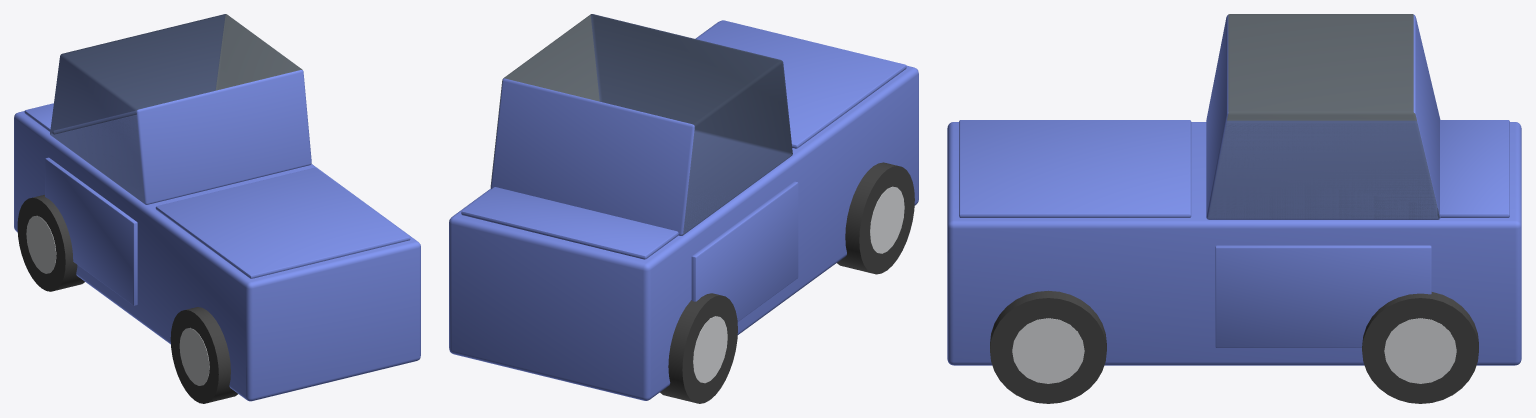
File: bigTruck.glb
3 renders of one model, left to right at view 1: azimuth 30°, elevation 25°; view 2: azimuth 150°, elevation 25°; view 3: azimuth 270°, elevation 25°, orthographic. The views are drawn at different scales.
Parts seen in each view (by area): view 1: body, cabin, trunk, door_l, wheel_rl, wheel_fl, wheel_fl_rim, wheel_rl_rim, hood; view 2: body, cabin, trunk, door_l, hood, wheel_rl, wheel_fl, wheel_rl_rim, wheel_fl_rim; view 3: body, cabin, trunk, door_r, wheel_rr, hood, wheel_fr, wheel_fr_rim, wheel_rr_rim.
Part boxes in pixels (left/top/right/bottom): body: left=14, top=111, right=420, bottom=401; cabin: left=50, top=14, right=311, bottom=204; trunk: left=155, top=167, right=410, bottom=278; door_l: left=45, top=157, right=137, bottom=305; wheel_rl: left=170, top=307, right=237, bottom=403; wheel_fl: left=17, top=195, right=84, bottom=291; wheel_fl_rim: left=26, top=215, right=56, bottom=273; wheel_rl_rim: left=179, top=328, right=209, bottom=385; hood: left=24, top=103, right=136, bottom=134; body: left=449, top=21, right=918, bottom=400; cabin: left=490, top=14, right=792, bottom=235; trunk: left=696, top=20, right=906, bottom=148; door_l: left=691, top=181, right=798, bottom=321; hood: left=461, top=187, right=678, bottom=259; wheel_rl: left=837, top=162, right=914, bottom=274; wheel_fl: left=660, top=293, right=737, bottom=403; wheel_rl_rim: left=870, top=186, right=904, bottom=253; wheel_fl_rim: left=693, top=316, right=727, bottom=383; body: left=947, top=122, right=1521, bottom=365; cabin: left=1206, top=14, right=1440, bottom=219; trunk: left=959, top=120, right=1191, bottom=217; door_r: left=1215, top=245, right=1431, bottom=347; wheel_rr: left=990, top=290, right=1106, bottom=403; hood: left=1438, top=120, right=1509, bottom=217; wheel_fr: left=1362, top=292, right=1478, bottom=403; wheel_fr_rim: left=1384, top=318, right=1456, bottom=383; wheel_rr_rim: left=1012, top=318, right=1084, bottom=383.
Size of the model in its own units: 2.63 by 2.93 by 5.4.
